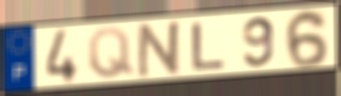4: (44, 27, 80, 85)
6: (283, 7, 331, 69)
9: (242, 16, 275, 68)
L: (190, 21, 229, 72)
N: (135, 19, 185, 80)
Q: (86, 26, 137, 80)
